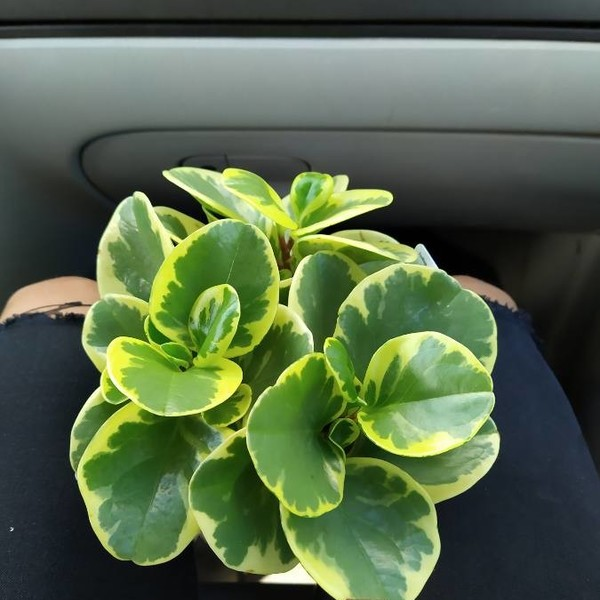obstacle: (70, 157, 499, 582)
